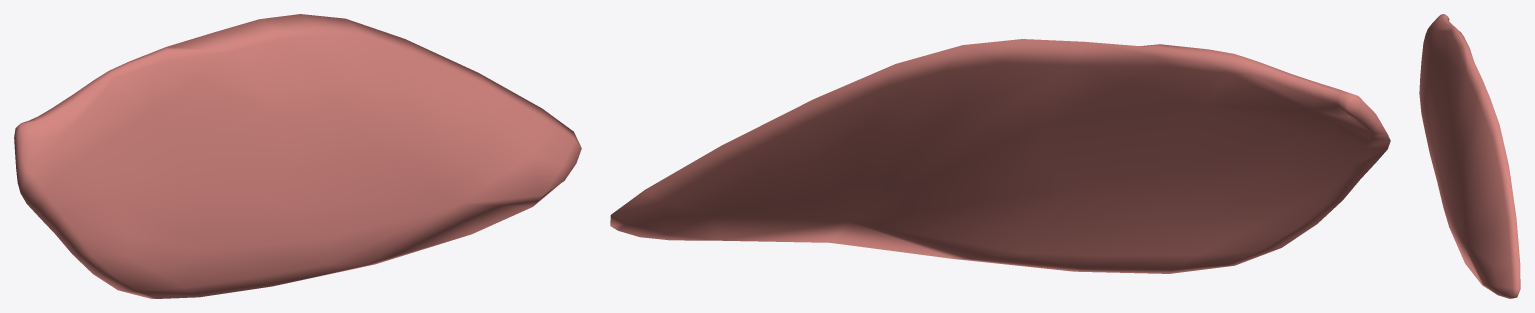
3 views of the same model, side by side, from view 1: azimuth 30°, elevation 25°; view 2: azimuth 150°, elevation 25°; view 3: azimuth 270°, elevation 25° (orthographic). The views are drawn at different scales.
Parts seen in each view (by area): view 1: ZA_065e4abe6cc50aeb; view 2: ZA_065e4abe6cc50aeb; view 3: ZA_065e4abe6cc50aeb.
Part boxes in pixels (<box>): ZA_065e4abe6cc50aeb: <box>14,14,581,298</box>; ZA_065e4abe6cc50aeb: <box>610,39,1390,273</box>; ZA_065e4abe6cc50aeb: <box>1419,14,1520,298</box>.
Bounding box in the file's own units: 0.0162 × 0.00635 × 0.00414.
